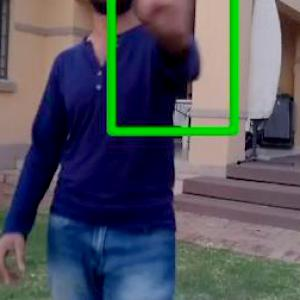takeoff-hand: (125, 0, 195, 57)
